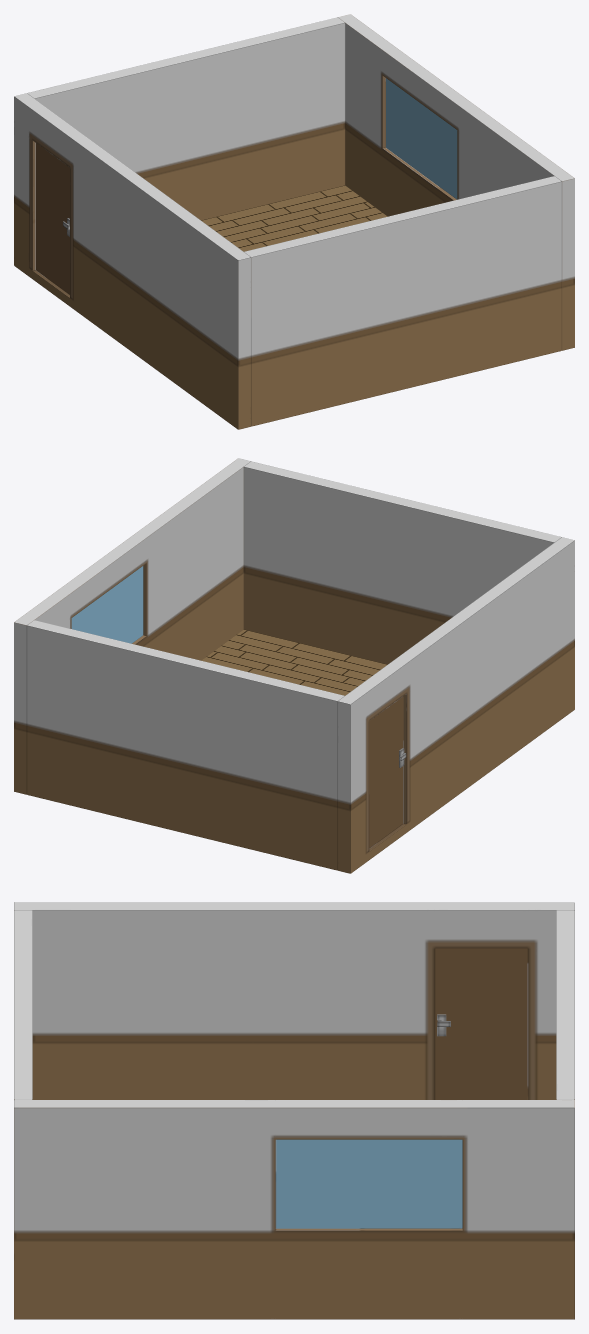
The model's file is bedroom.fbx.
The picture shows the model from 3 angles, top to bottom: view 1: azimuth 30°, elevation 25°; view 2: azimuth 150°, elevation 25°; view 3: azimuth 270°, elevation 25°; orthographic projection. The views are drawn at different scales.
Parts seen in each view (by area): view 1: cube_3, cube_1, cube_4, cube_2, cube; view 2: cube_4, cube_1, cube_3, cube_2, cube; view 3: cube_2, cube_1, cube_3, cube_4.
Part boxes in pixels (bbox=[...]): cube_3: bbox=[244, 176, 561, 426]; cube_1: bbox=[14, 93, 251, 429]; cube_4: bbox=[27, 17, 345, 220]; cube_2: bbox=[338, 14, 574, 350]; cube: bbox=[201, 185, 387, 251]; cube_4: bbox=[27, 620, 344, 870]; cube_1: bbox=[337, 537, 574, 873]; cube_3: bbox=[243, 461, 561, 664]; cube_2: bbox=[14, 458, 250, 794]; cube: bbox=[201, 629, 387, 695]; cube_2: bbox=[14, 1100, 574, 1319]; cube_1: bbox=[14, 902, 574, 1099]; cube_3: bbox=[14, 910, 32, 1099]; cube_4: bbox=[556, 910, 574, 1099].
Size of the model in its own units: 651 by 312 by 750.
2 materials, 2 textured.
